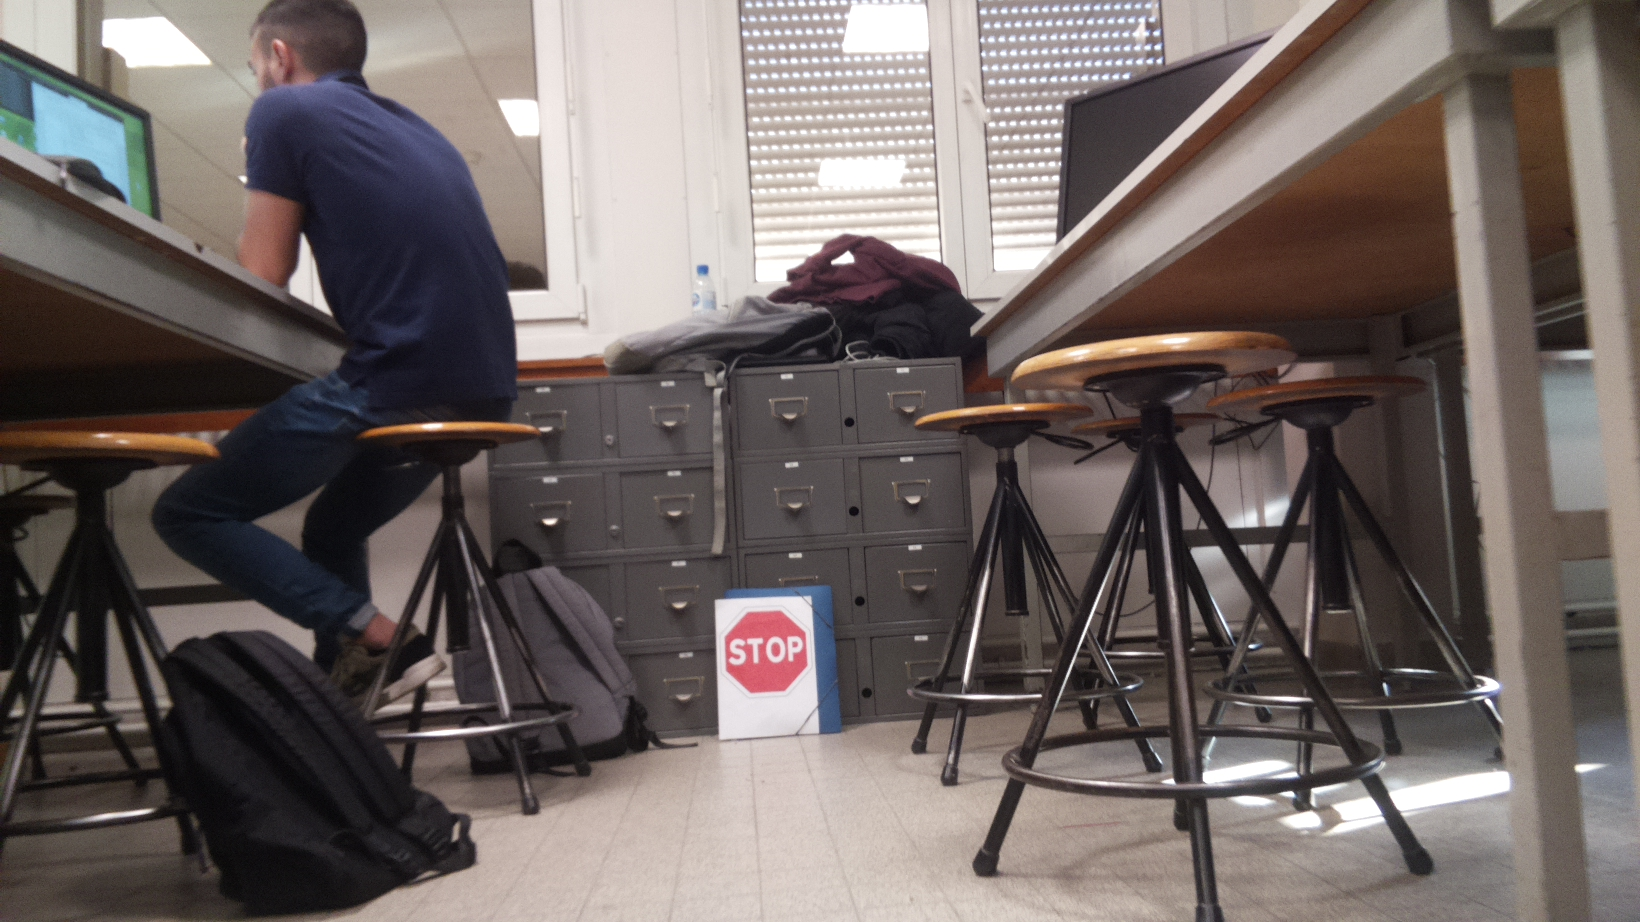stop: (719, 605, 814, 697)
